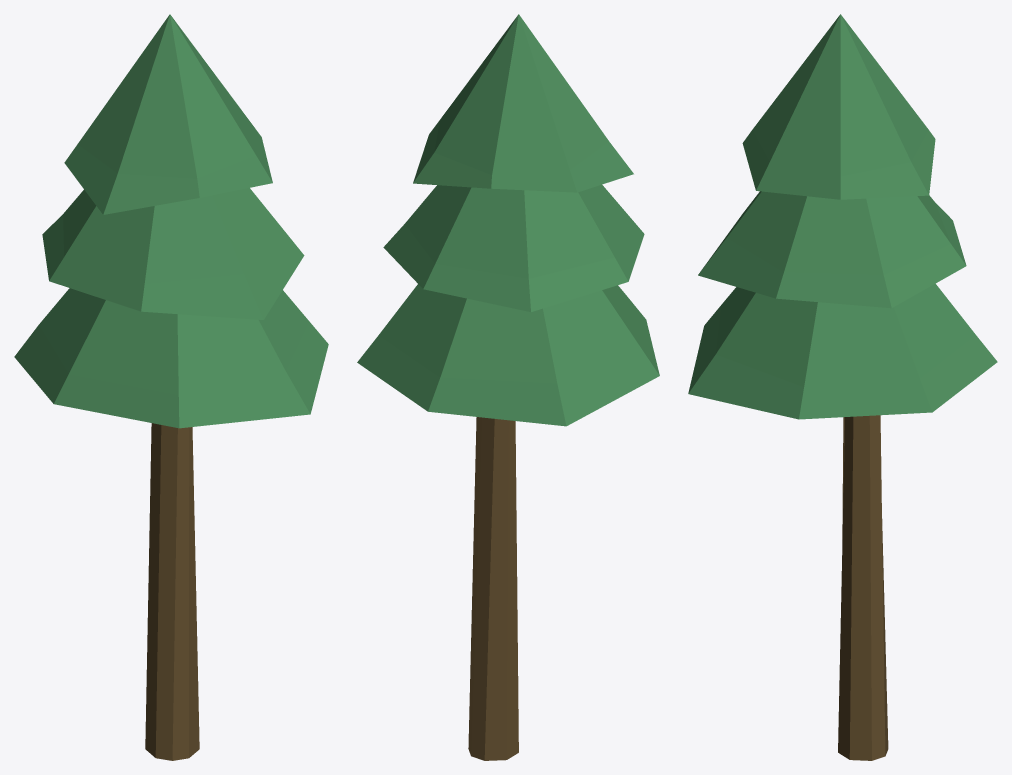
File: Nadelbaum 4.fbx
3 renders of one model, left to right at view 1: azimuth 30°, elevation 25°; view 2: azimuth 150°, elevation 25°; view 3: azimuth 270°, elevation 25°, orthographic. The views are drawn at different scales.
Visible parts, largest first — view 1: Kegel, stamm; view 2: Kegel, stamm; view 3: Kegel, stamm.
Part boxes in pixels (x1=…): Kegel: x1=14, y1=14, x2=328, y2=428; stamm: x1=145, y1=423, x2=199, y2=760; Kegel: x1=357, y1=14, x2=659, y2=426; stamm: x1=468, y1=417, x2=518, y2=760; Kegel: x1=688, y1=14, x2=997, y2=419; stamm: x1=838, y1=415, x2=888, y2=760.
Bounding box in the file's own units: 385 × 1028 × 395.
